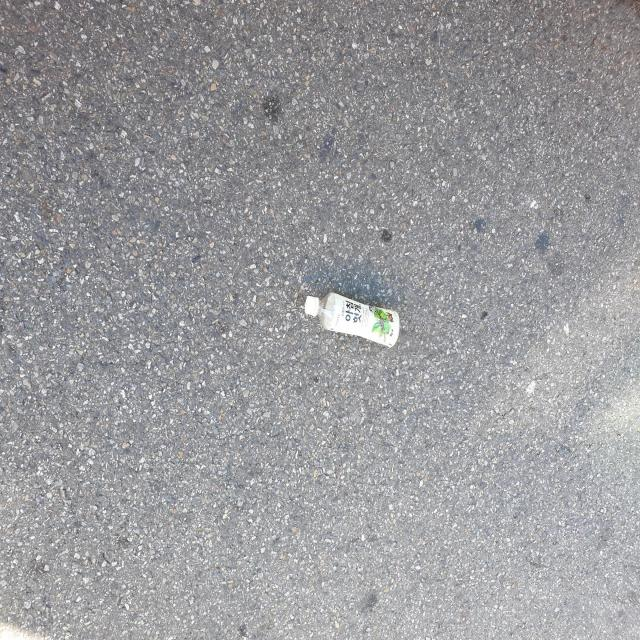plastic: (304, 292, 400, 346)
